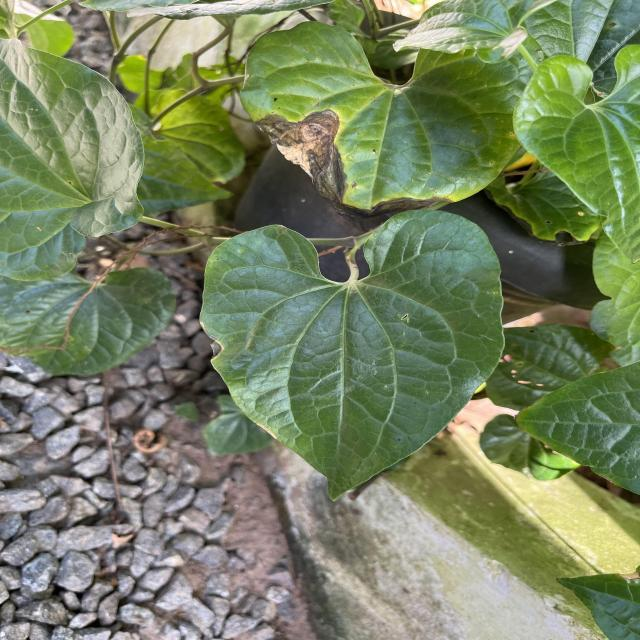Piper longum: (194, 207, 508, 506)
